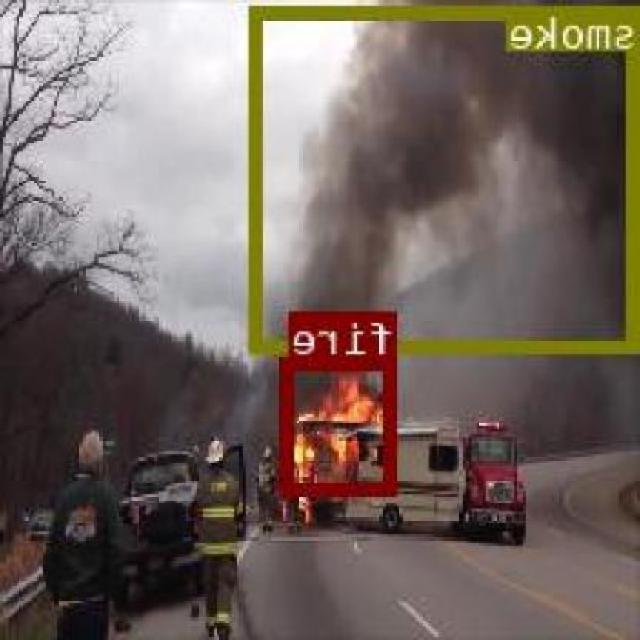Fire: (284, 355, 400, 493)
Smoke: (251, 4, 640, 350)
